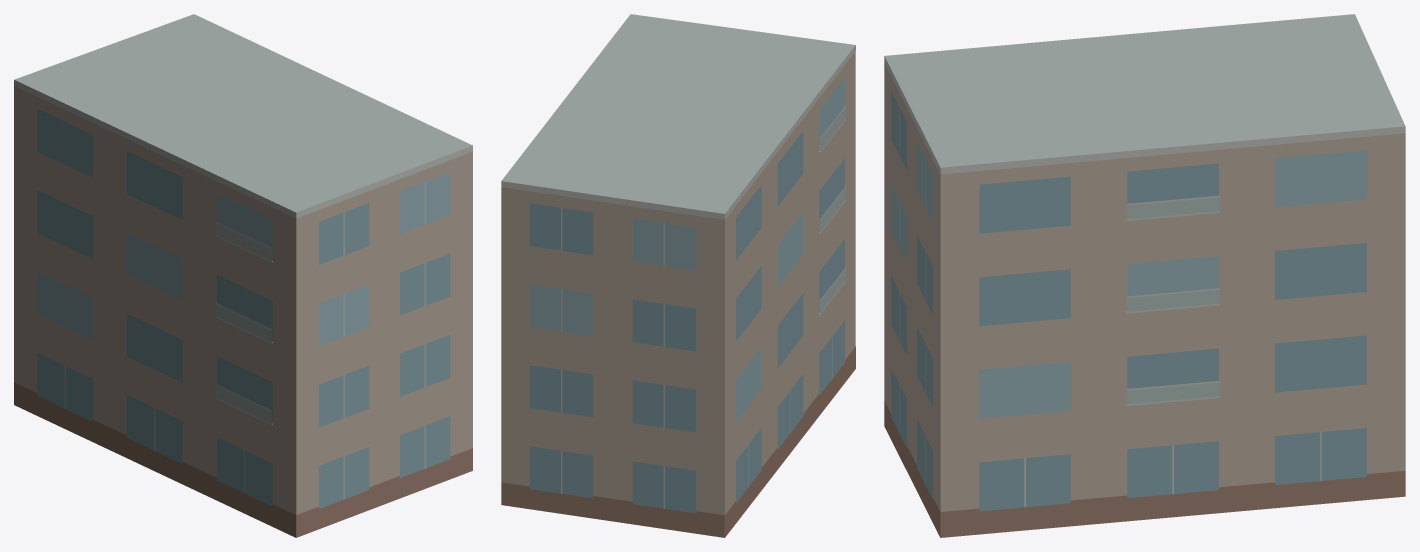
The model's file is survey-upis-32743113.glb.
The picture shows the model from 3 angles, left to right: view 1: azimuth 30°, elevation 25°; view 2: azimuth 150°, elevation 25°; view 3: azimuth 270°, elevation 25°; orthographic projection. The views are drawn at different scales.
Parts seen in each view (by area): view 1: survey-upis-32743113.tmp; view 2: survey-upis-32743113.tmp; view 3: survey-upis-32743113.tmp.
Boxes of the visible parts, x1,y1,x2,y2 form: survey-upis-32743113.tmp: (14, 14, 472, 537); survey-upis-32743113.tmp: (501, 14, 855, 537); survey-upis-32743113.tmp: (884, 14, 1405, 537).
Size of the model in its own units: 11.67 by 13.1 by 16.73.
